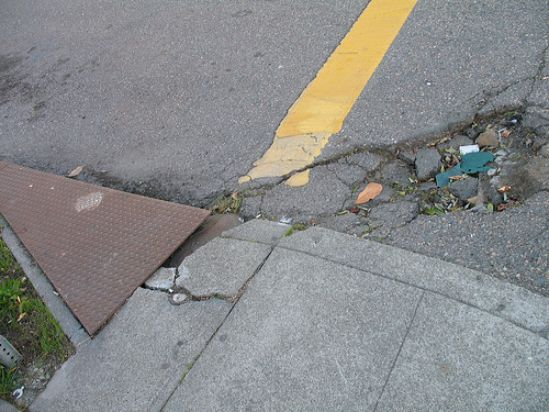pothole: (381, 105, 549, 221)
